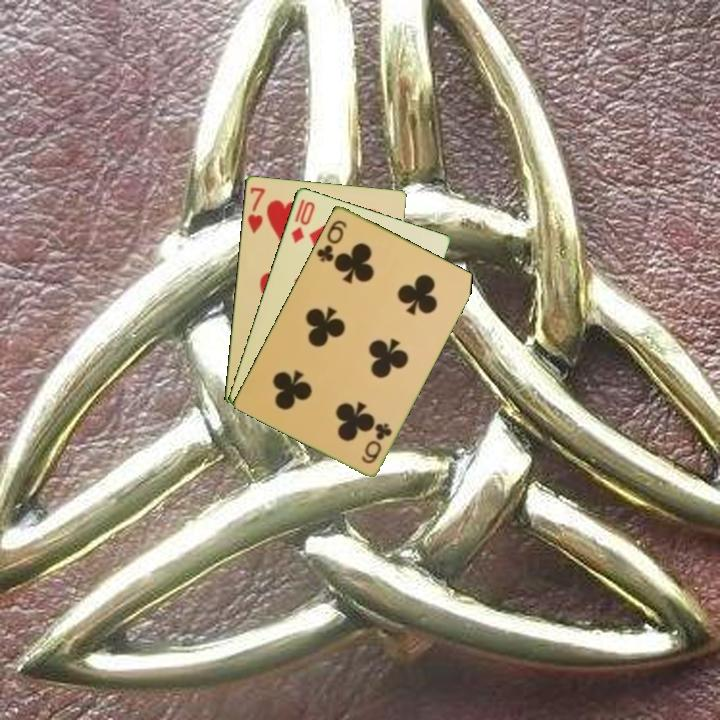10d: (287, 195, 318, 246)
6c: (313, 216, 350, 265), (357, 419, 395, 466)
7h: (244, 183, 268, 236)
